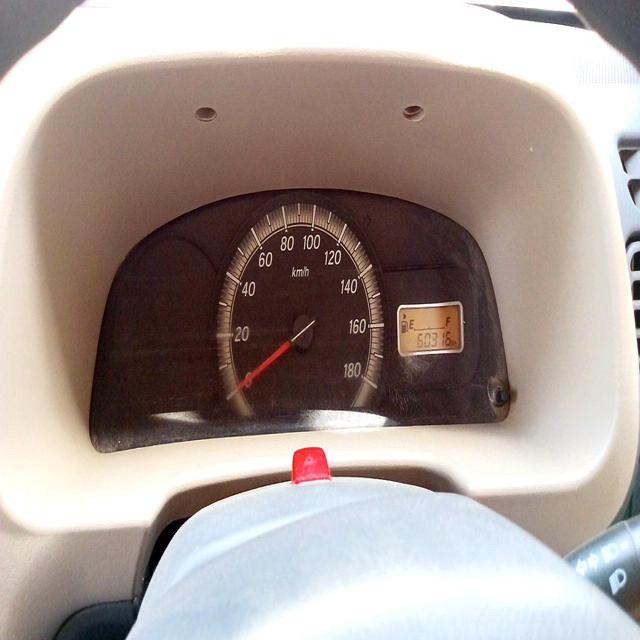odometer: (416, 329, 452, 348)
